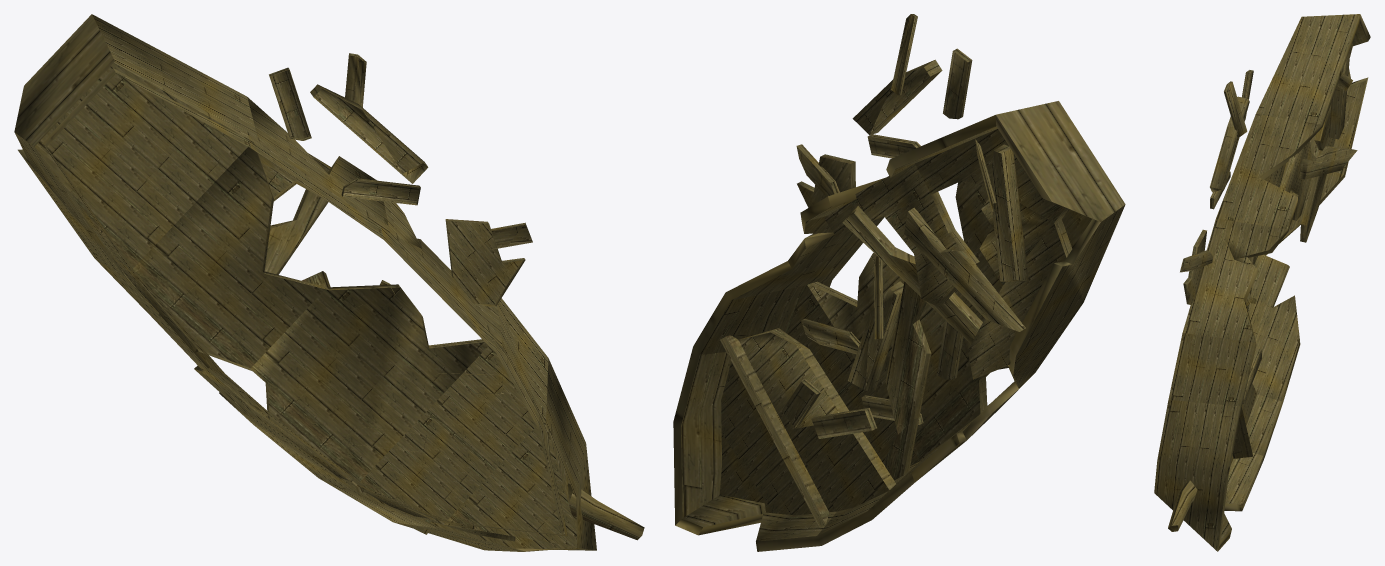
The model's file is SMSH_ Boat_3.FBX.
3 views of the same model, side by side, from view 1: azimuth 30°, elevation 25°; view 2: azimuth 150°, elevation 25°; view 3: azimuth 270°, elevation 25° (orthographic). The views are drawn at different scales.
Visible parts, largest first — view 1: Ytlds__Boat_3; view 2: Ytlds__Boat_3; view 3: Ytlds__Boat_3.
Part boxes in pixels (<box>): Ytlds__Boat_3: <box>14,14,644,551</box>; Ytlds__Boat_3: <box>673,14,1125,551</box>; Ytlds__Boat_3: <box>1154,14,1370,551</box>.
Size of the model in its own units: 977 by 1030 by 508.
